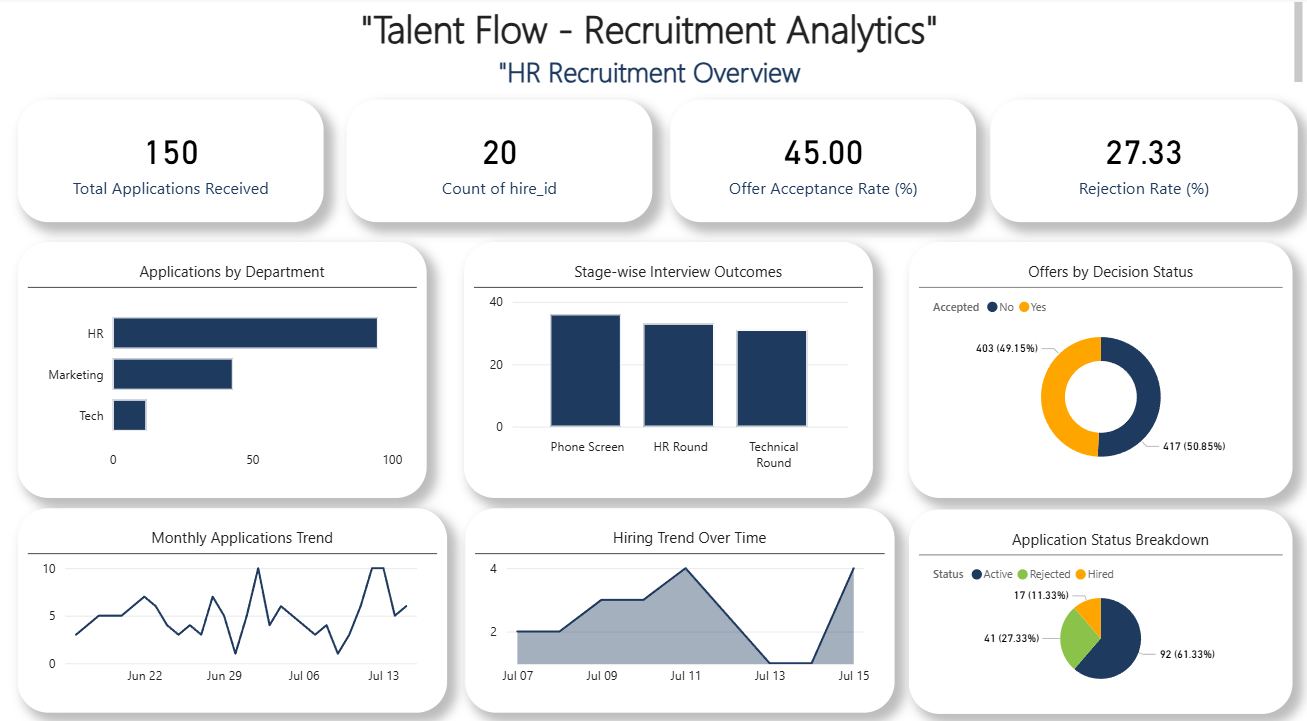

The dashboard page shown, as its layout file describes it:
{"tool":"powerbi","page":{"name":"Page 1","canvas":[1280,720],"ordinal":0},"visuals":[{"type":"textbox","box":[0,0,1280.3,91.7],"z":0},{"type":"card","fields":{"Values":["CountNonNull(Process - Applications.application_id)"]},"box":[18.3,100.3,299.6,119.8],"z":1000},{"type":"card","fields":{"Values":["CountNonNull(Process - Hires.hire_id)"]},"box":[339.9,100.3,299.6,119.8],"z":2000},{"type":"card","fields":{"Values":["HR - Candidates.Offer Acceptance Rate (%)"]},"box":[656.7,100.3,299.6,119.8],"z":3000},{"type":"card","fields":{"Values":["HR - Candidates.Rejection Rate (%)"]},"box":[969.7,100.3,300.8,119.8],"z":4000},{"type":"clusteredBarChart","title":"Applications by Department","fields":{"Category":["HR - Job Postings.department"],"Y":["CountNonNull(Process - Applications.application_id)"]},"box":[18,240,400,250],"z":5000},{"type":"clusteredColumnChart","title":"Stage-wise Interview Outcomes","fields":{"Category":["Process - Interviews.stage_name"],"Y":["CountNonNull(Process - Interviews.stage_id)"]},"box":[455,240,400,250],"z":6000},{"type":"donutChart","title":"Offers by Decision Status","fields":{"Category":["Process - Offers.accepted"],"Y":["Sum(Process - Offers.offer_id)"]},"box":[890,239.7,375.4,250.7],"z":7000},{"type":"lineChart","title":"Monthly Applications Trend","fields":{"Y":["CountNonNull(Process - Applications.application_id)"],"Category":["Process - Applications.application_date.Variation.Date Hierarchy.Year","Process - Applications.application_date.Variation.Date Hierarchy.Month","Process - Applications.application_date.Variation.Date Hierarchy.Day"]},"box":[18,500,420,200],"z":8000},{"type":"areaChart","title":"Hiring Trend Over Time","fields":{"Y":["CountNonNull(Process - Hires.hire_id)"],"Category":["Process - Hires.hire_date.Variation.Date Hierarchy.Year","Process - Hires.hire_date.Variation.Date Hierarchy.Quarter","Process - Hires.hire_date.Variation.Date Hierarchy.Month","Process - Hires.hire_date.Variation.Date Hierarchy.Day"]},"box":[455.5,500,420,200],"z":9000},{"type":"pieChart","title":"Application Status Breakdown","fields":{"Category":["Process - Applications.application_status"],"Y":["CountNonNull(Process - Applications.application_id)"]},"box":[890,501.4,375,200],"z":10000}]}

Visuals, with their boxes in screenshot pixels (x1, y1, x2, y2), scaled from the page's 1280x720 canvas onto the 1307x721 screenshot:
textbox: 0,0,1306,92
card - CountNonNull(Process - Applications.application_id): 19,100,325,220
card - CountNonNull(Process - Hires.hire_id): 347,100,653,220
card - HR - Candidates.Offer Acceptance Rate (%): 671,100,976,220
card - HR - Candidates.Rejection Rate (%): 990,100,1297,220
"Applications by Department" clusteredBarChart: 18,240,427,491
"Stage-wise Interview Outcomes" clusteredColumnChart: 465,240,873,491
"Offers by Decision Status" donutChart: 909,240,1292,491
"Monthly Applications Trend" lineChart: 18,501,447,701
"Hiring Trend Over Time" areaChart: 465,501,894,701
"Application Status Breakdown" pieChart: 909,502,1292,702
